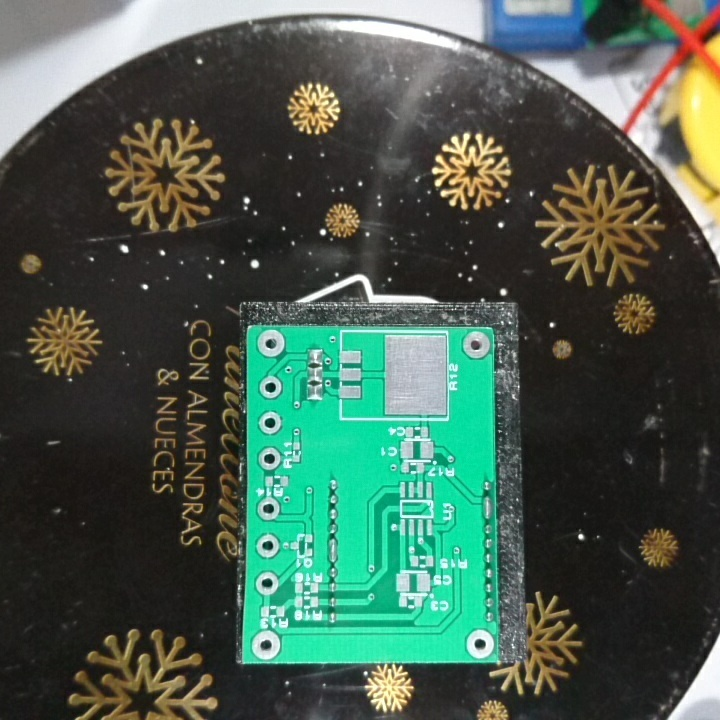F: (249, 628, 284, 663), (253, 326, 290, 359), (462, 626, 498, 658), (460, 329, 492, 363), (254, 409, 285, 436), (254, 532, 281, 560), (255, 446, 284, 472), (256, 375, 284, 401), (253, 568, 279, 595), (256, 494, 280, 523)
P: (324, 534, 344, 566), (479, 494, 496, 520)
